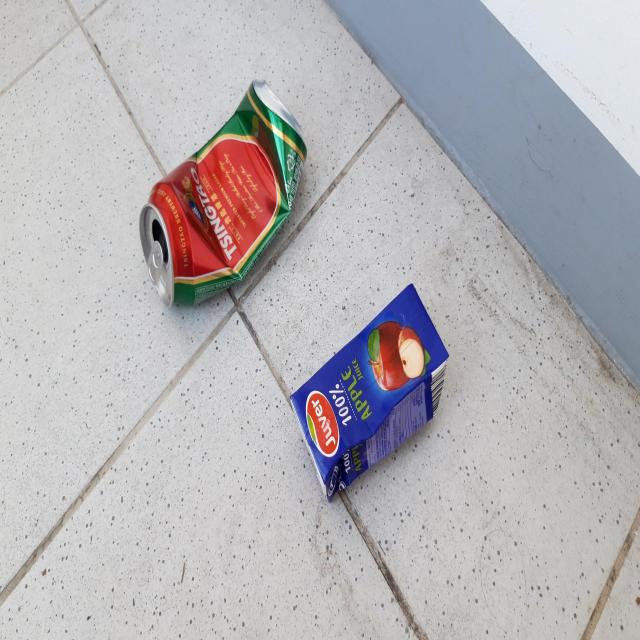can: (139, 79, 307, 305)
paperpack: (291, 283, 449, 501)
